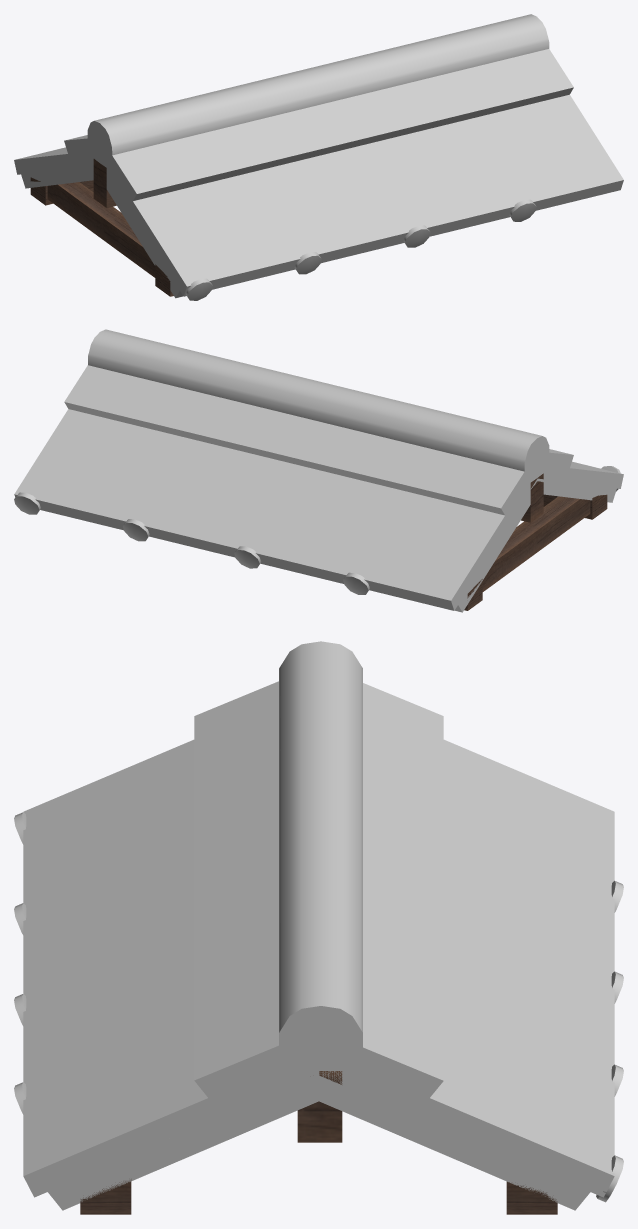
Rendered from fence_top1a_1t.fbx.
3 renders of one model, top to bottom at view 1: azimuth 30°, elevation 25°; view 2: azimuth 150°, elevation 25°; view 3: azimuth 270°, elevation 25°, orthographic. The views are drawn at different scales.
Parts seen in each view (by area): view 1: fence_top1a_1t; view 2: fence_top1a_1t; view 3: fence_top1a_1t.
Part boxes in pixels (<box>): fence_top1a_1t: <box>14,14,623,300</box>; fence_top1a_1t: <box>14,329,623,612</box>; fence_top1a_1t: <box>14,641,623,1214</box>.
Size of the model in its own units: 220 by 58.76 by 156.
